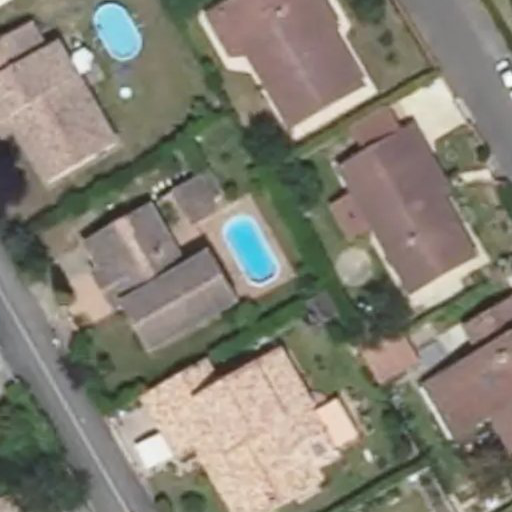pool: (220, 222, 291, 262)
